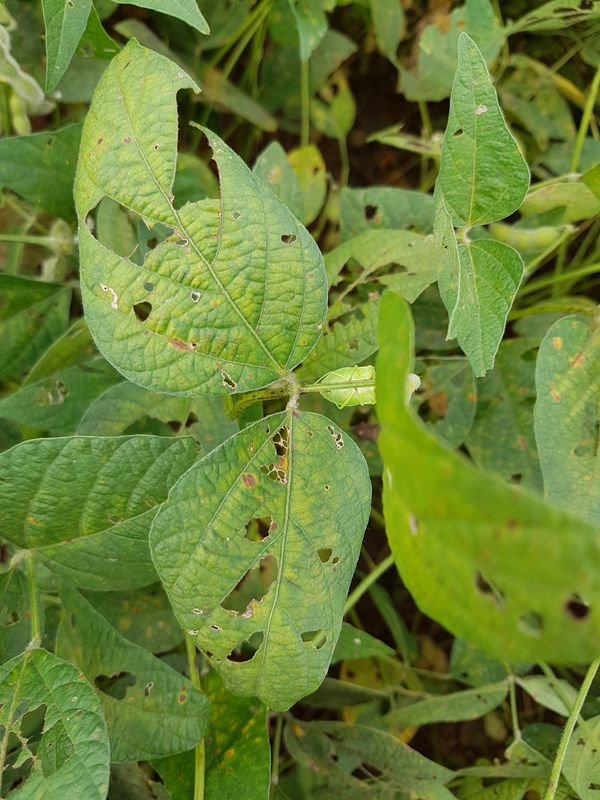Euschistus_heros_adulto: (348, 417, 386, 448)
Nezara_viridula_adulto: (305, 358, 427, 417)
